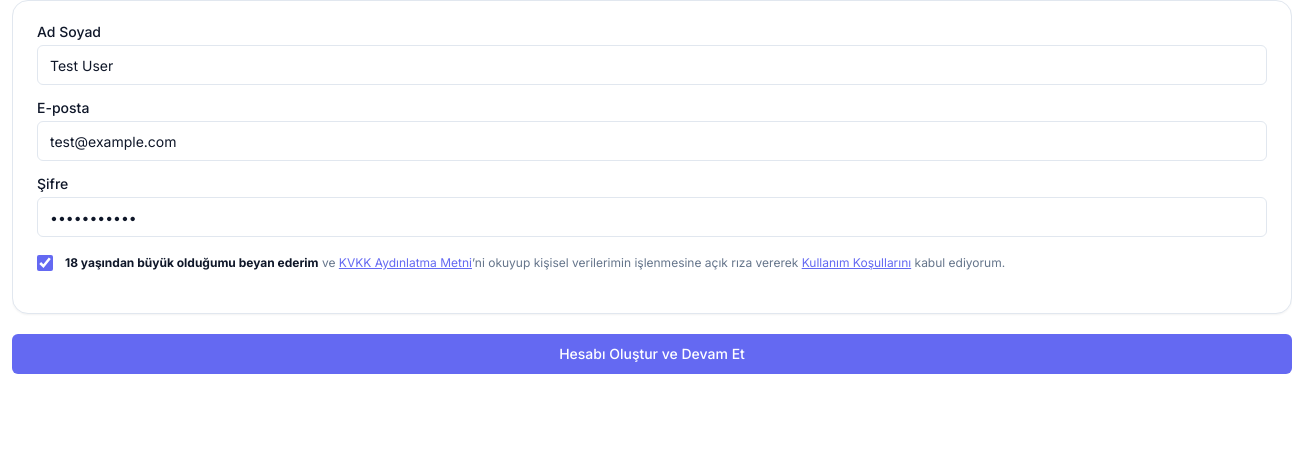
Step4Account — kurulum her durumda tamamlandı işaretlenir › negatif: işaretleme başarısızsa kullanıcı hatayı görür (sessiz yutulmaz)
Click the button "Hesabı Oluştur ve Devam Et" at (652, 354), box [12,334,1292,374]
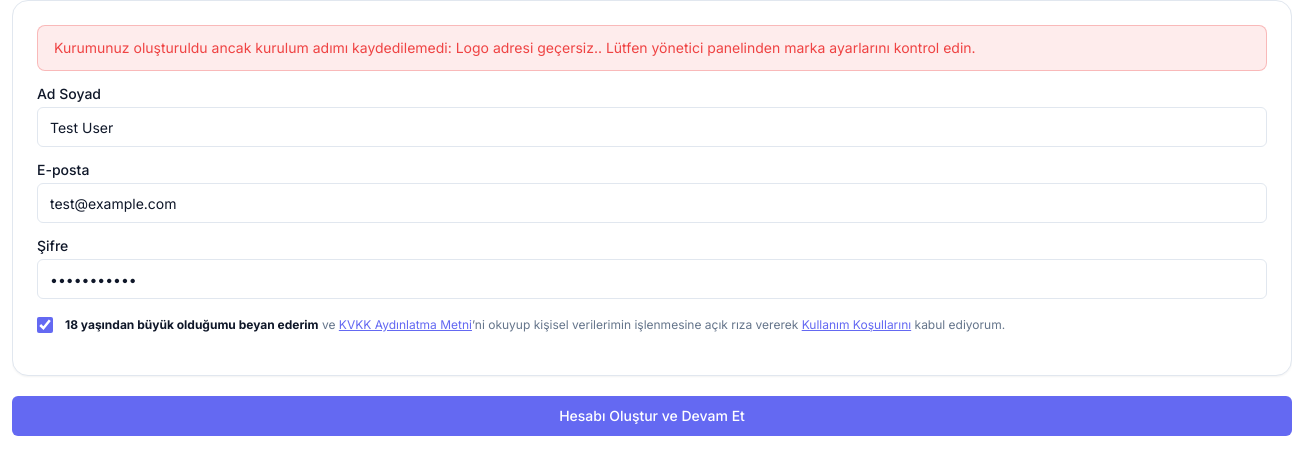
Now the text "kurulum adımı kaydedilemedi" is shown, box [54,39,976,56]
